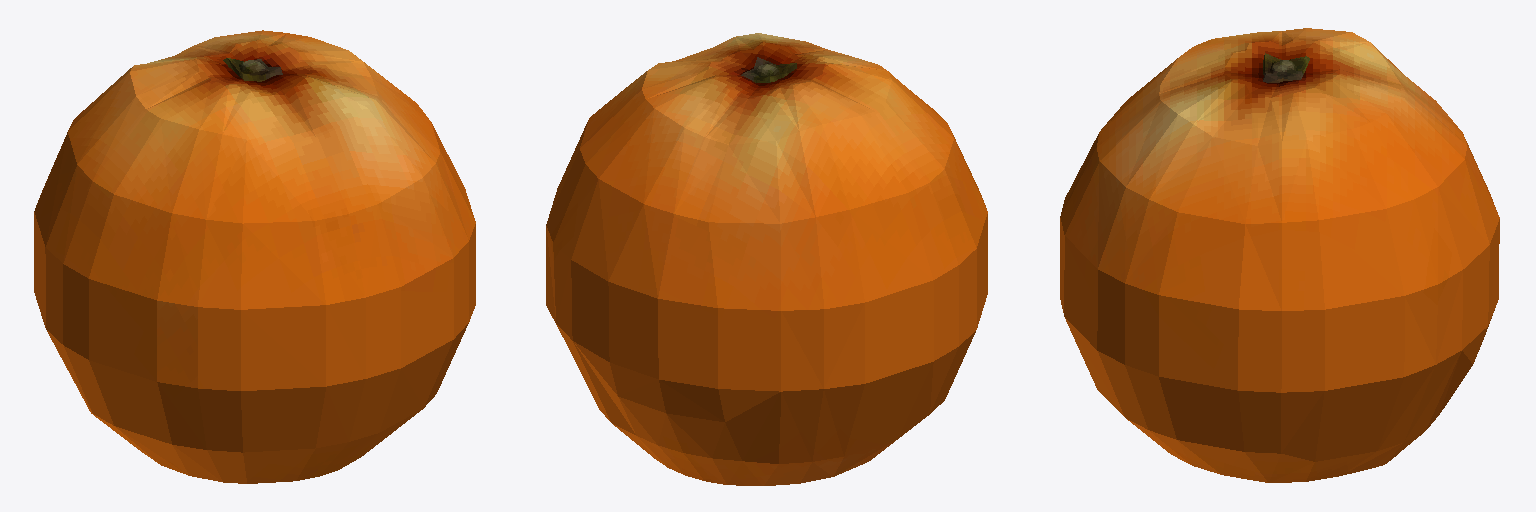
3 views of the same model, side by side, from view 1: azimuth 30°, elevation 25°; view 2: azimuth 150°, elevation 25°; view 3: azimuth 270°, elevation 25° (orthographic).
Parts seen in each view (by area): view 1: submesh_0; view 2: submesh_0; view 3: submesh_0.
Part boxes in pixels (left/top/right/bottom): submesh_0: left=34, top=30, right=475, bottom=483; submesh_0: left=546, top=33, right=987, bottom=485; submesh_0: left=1060, top=28, right=1499, bottom=482.
Bounding box in the file's own units: 2.19 × 2.12 × 2.18.
Materials: 1 (1 with a texture image).